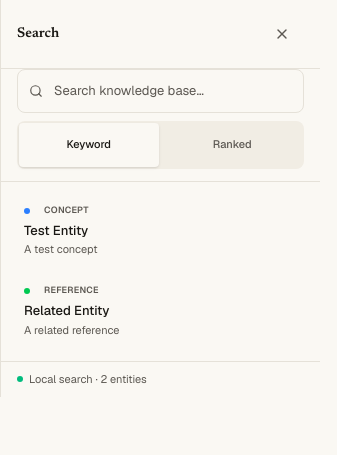
RightPanel branch coverage › SearchPanel ranked mode › shows empty library state when ranked search returns nothing
The width and height of the screenshot is (337, 455).
Click the button "Ranked".
click(232, 145)  # box [162,123,302,167]
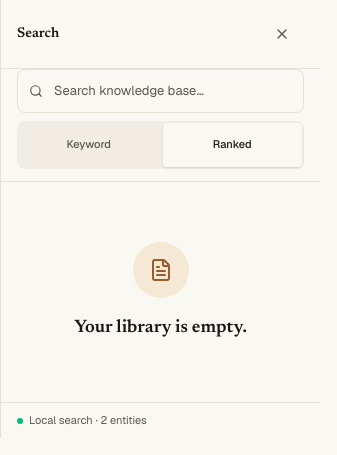
Check: the heading "Your library is empty." is shown, box [74,314,247,342]
